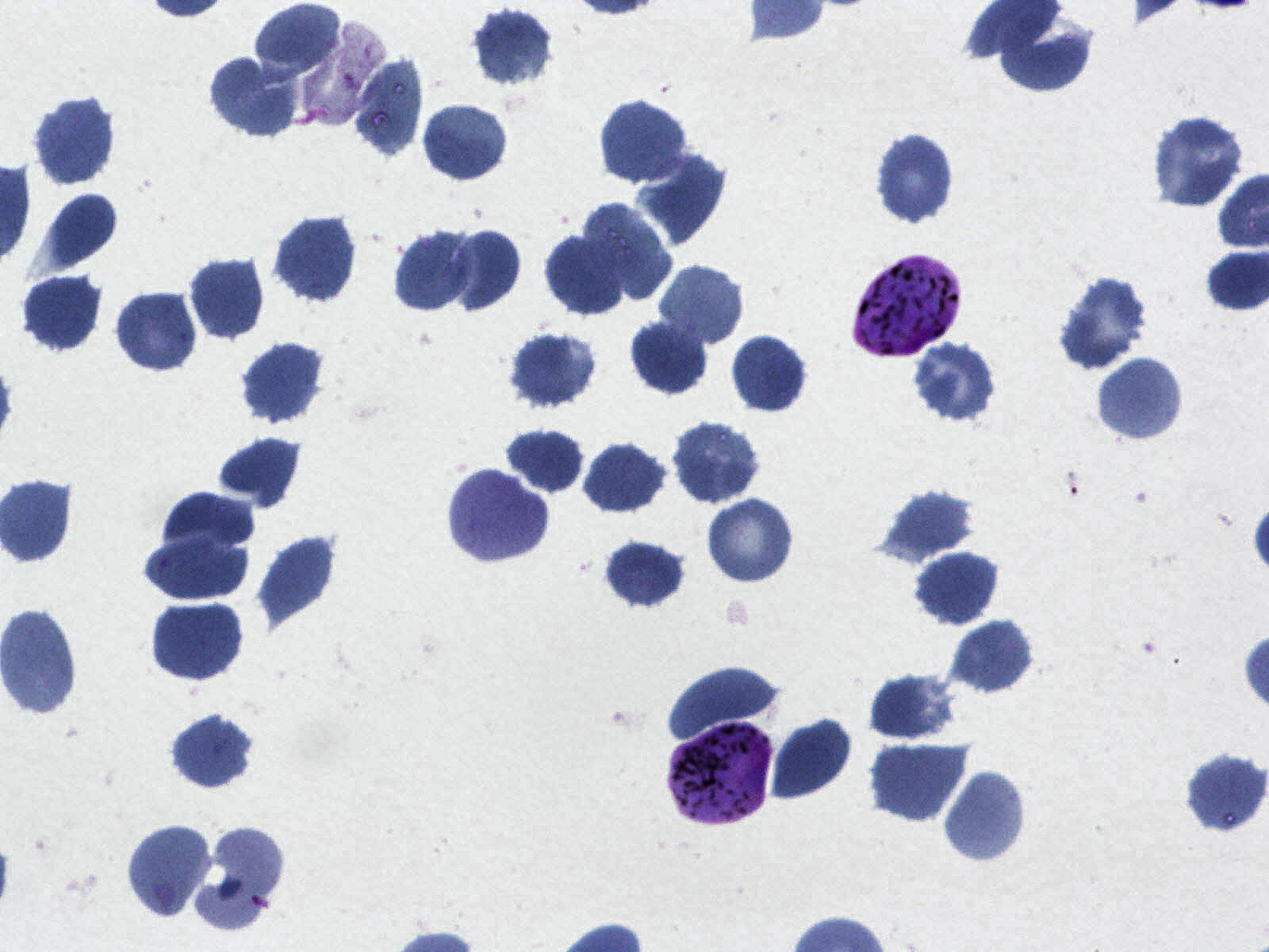Infected: (666, 722, 775, 829), (854, 256, 960, 360), (297, 19, 389, 129)
Uninfected: (447, 466, 552, 566), (194, 820, 285, 931), (155, 491, 256, 584), (579, 200, 671, 301), (663, 665, 782, 741), (1153, 115, 1246, 211), (635, 148, 726, 246), (935, 772, 1033, 862), (870, 737, 970, 824), (1060, 277, 1147, 376), (209, 54, 304, 144), (127, 821, 212, 920), (706, 495, 796, 587), (1095, 354, 1185, 444), (274, 211, 359, 306), (150, 600, 247, 682), (600, 98, 689, 186), (876, 131, 956, 228), (34, 93, 117, 186), (998, 12, 1091, 94), (255, 2, 341, 90), (261, 531, 335, 632), (672, 421, 759, 505), (880, 492, 979, 565), (113, 289, 198, 374), (913, 339, 998, 424), (774, 716, 857, 803), (914, 548, 1002, 628), (443, 227, 525, 312), (353, 56, 424, 154), (661, 263, 743, 347), (1184, 753, 1267, 835), (170, 712, 255, 792), (422, 103, 508, 182), (511, 330, 598, 408), (191, 253, 266, 343), (473, 6, 553, 90), (396, 229, 476, 313), (23, 270, 104, 352), (630, 316, 712, 397), (951, 617, 1034, 697), (544, 234, 624, 317), (147, 536, 249, 601), (247, 347, 322, 433), (869, 674, 958, 745), (504, 424, 586, 501), (220, 436, 305, 509), (583, 438, 665, 513), (39, 192, 114, 274), (729, 334, 806, 413), (603, 539, 685, 612)
